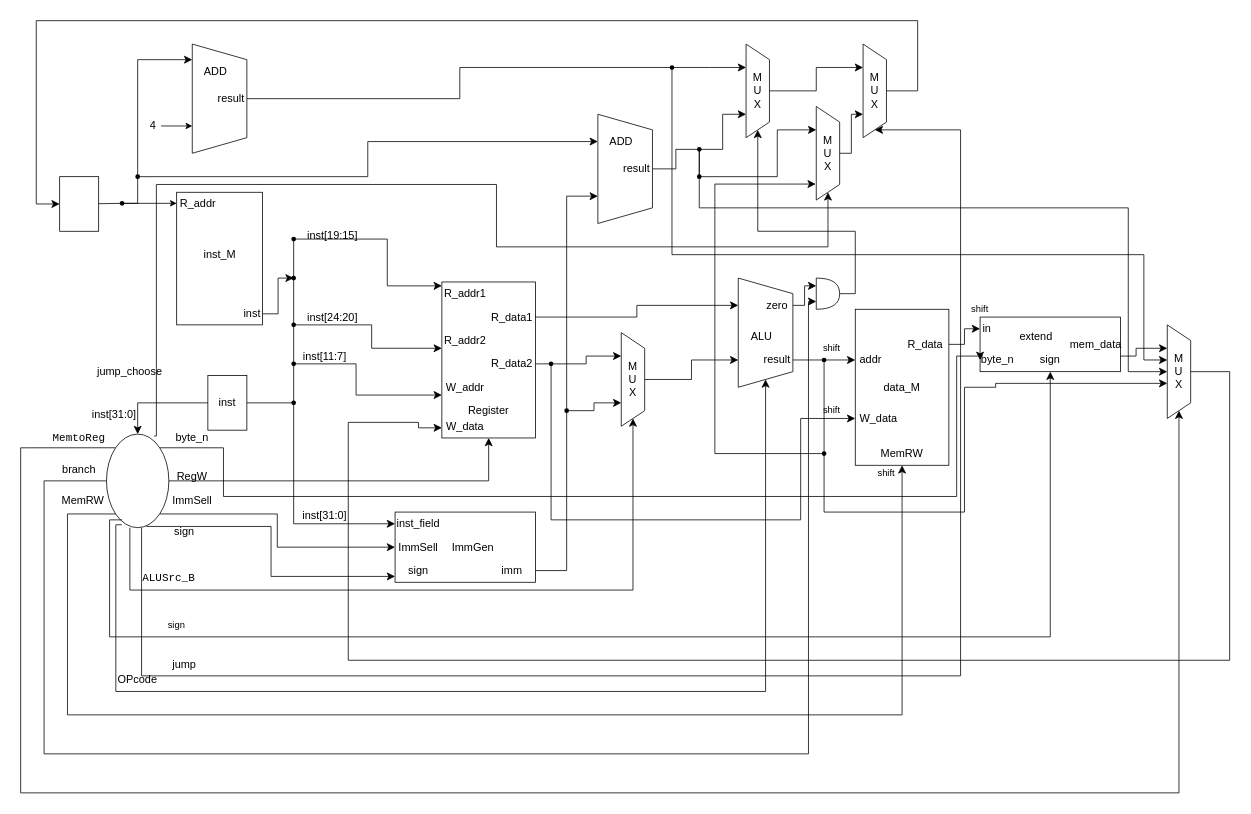
Some shapes in this 1251 by 814 pixel diagram are drawn without their labels. Each missing label, with the centre of its shape:
"Controler" belongs at [137,480].
"PC" belongs at [79,203].
